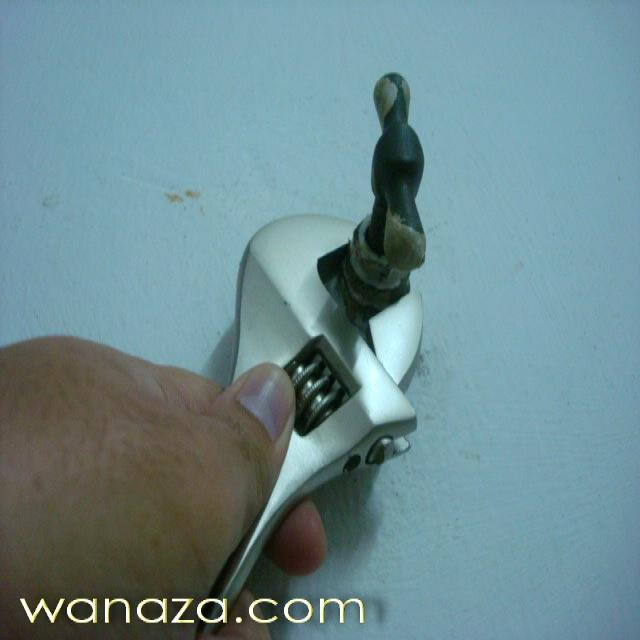wrench: (210, 215, 424, 605)
